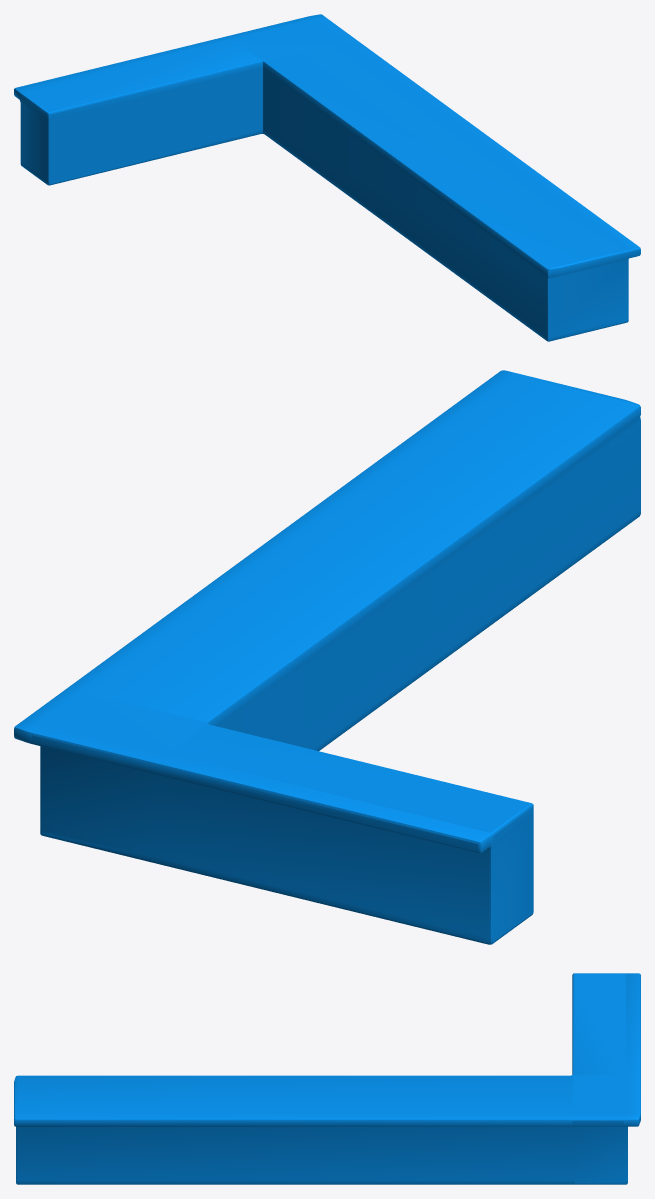
File: mesapro.fbx
3 views of the same model, one above another, from view 1: azimuth 30°, elevation 25°; view 2: azimuth 150°, elevation 25°; view 3: azimuth 270°, elevation 25° (orthographic). The views are drawn at different scales.
Parts seen in each view (by area): view 1: Mesa; view 2: Mesa; view 3: Mesa.
Part boxes in pixels (x1=…): Mesa: x1=14, y1=14, x2=640, y2=341; Mesa: x1=14, y1=370, x2=640, y2=944; Mesa: x1=14, y1=973, x2=640, y2=1184.
Bounding box in the file's own units: 37.05 × 8.42 × 66.98.
